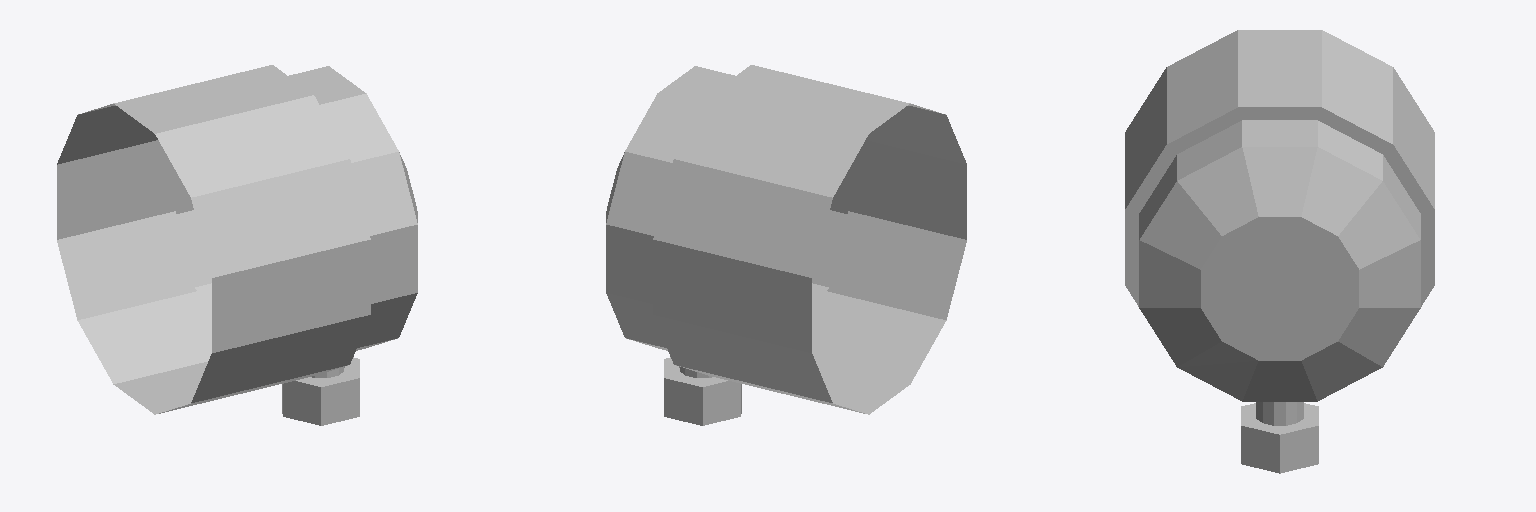
Rendered from 局放传感器.obj.
3 renders of one model, left to right at view 1: azimuth 30°, elevation 25°; view 2: azimuth 150°, elevation 25°; view 3: azimuth 270°, elevation 25°, orthographic.
Parts seen in each view (by area): view 1: Cylinder177, Cylinder178, Cylinder180; view 2: Cylinder177, Cylinder178, Cylinder180; view 3: Cylinder178, Cylinder177, Cylinder180, Cylinder179.
Part boxes in pixels (x1,y1,x2,y2): Cylinder177: (57,65,370,414); Cylinder178: (176,66,417,350); Cylinder180: (282,357,359,425); Cylinder177: (653,65,966,414); Cylinder178: (606,66,847,350); Cylinder180: (664,357,741,425); Cylinder178: (1139,120,1420,401); Cylinder177: (1125,30,1434,306); Cylinder180: (1241,403,1318,473); Cylinder179: (1256,402,1303,425).
Bounding box in the file's own units: 25.25 × 33.08 × 27.83.